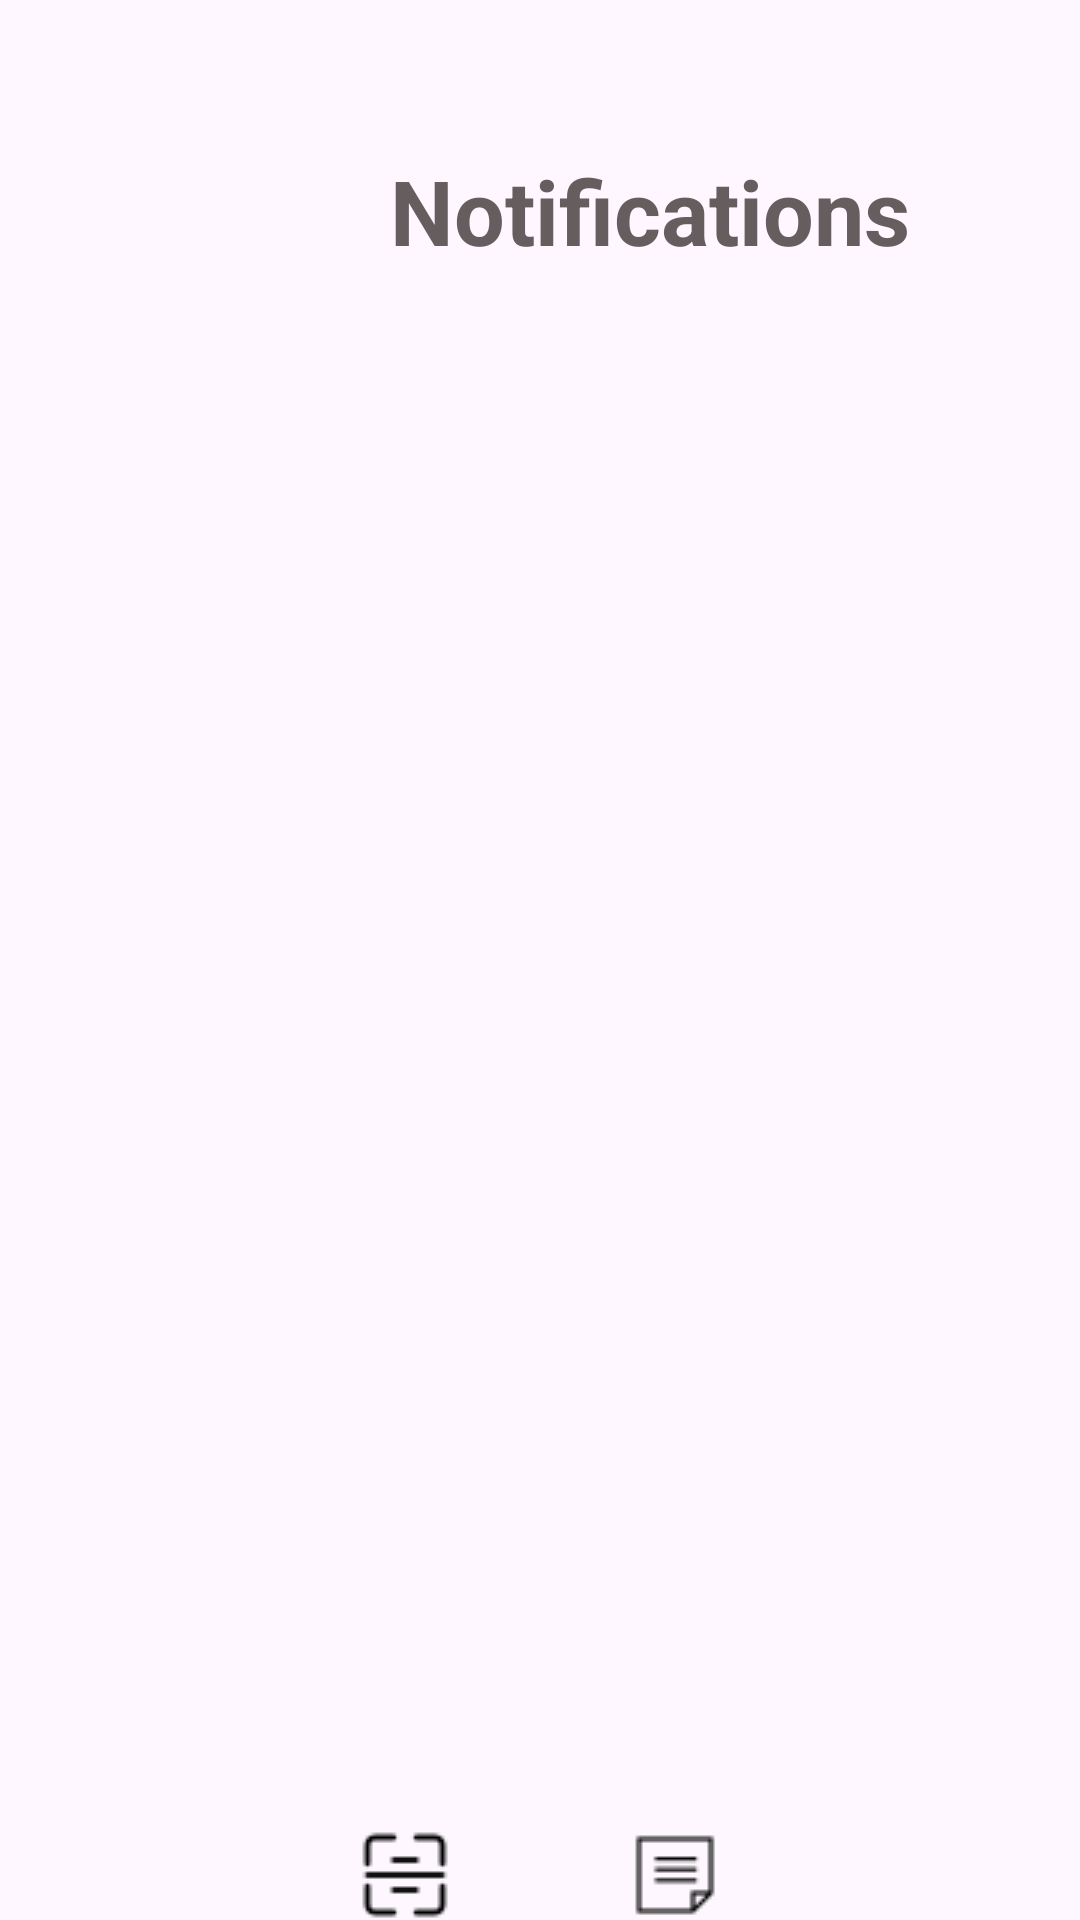

Icons on this 1080 x 1920 Android screen, each with the point to tap as point (x, y):
diary: point (675, 1875)
scan: point (405, 1875)
